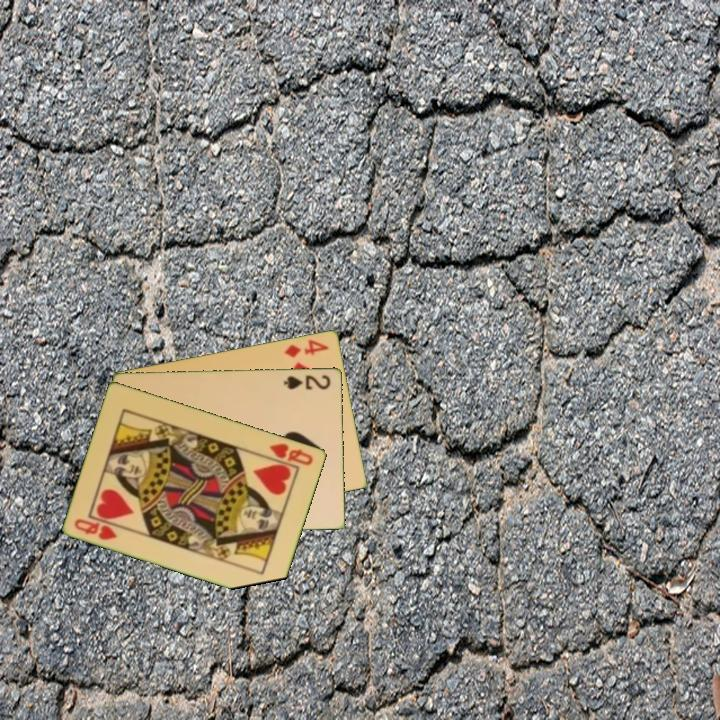2s: (280, 371, 334, 392)
4d: (281, 336, 332, 360)
Qh: (266, 439, 316, 468), (71, 515, 120, 543)
